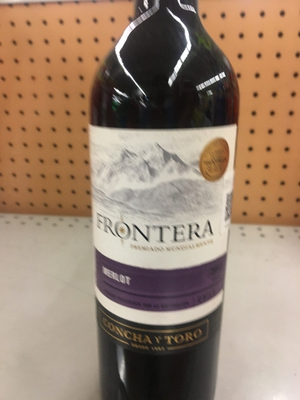frontera merlot: (88, 29, 243, 399)
